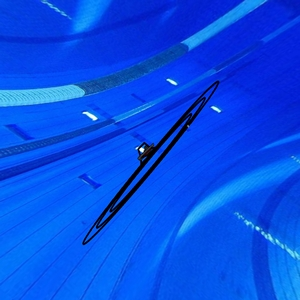circle: (82, 79, 228, 249)
submarine: (133, 139, 156, 165)
